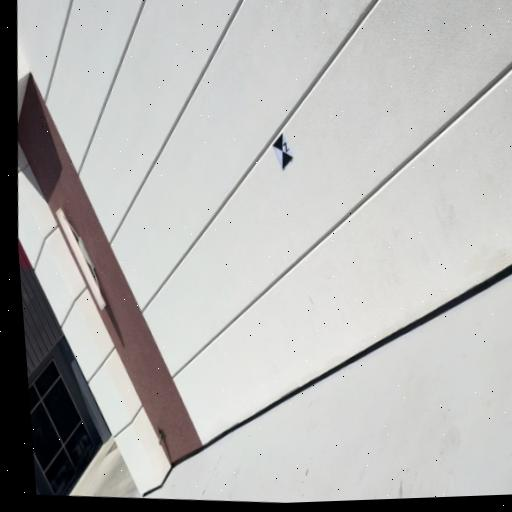target7: (273, 132, 293, 170)
